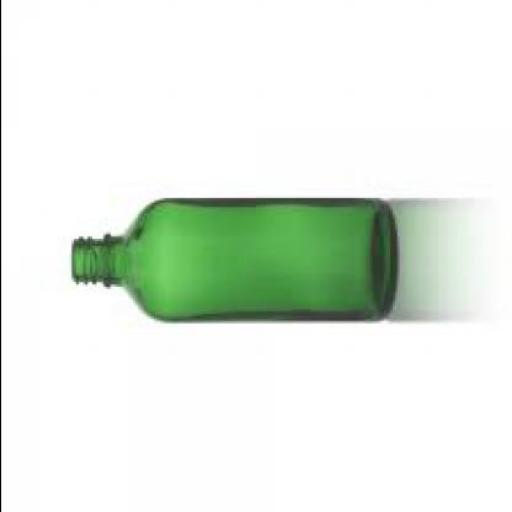glass: (68, 196, 396, 321)
